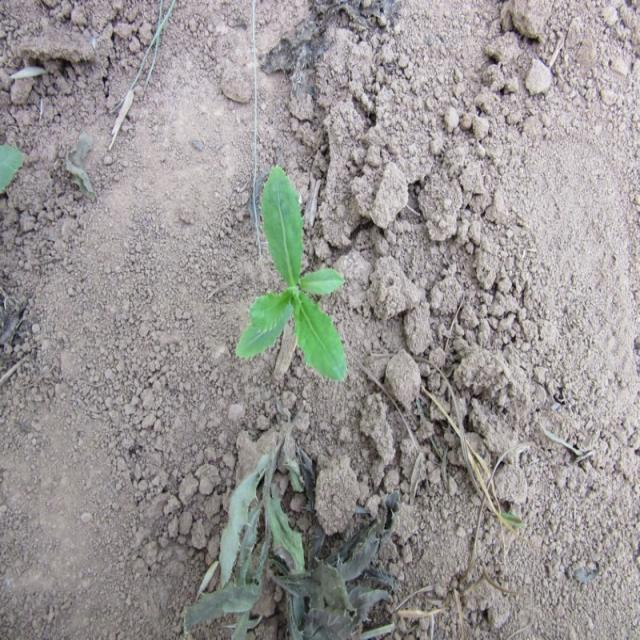cs: (232, 168, 353, 395)
